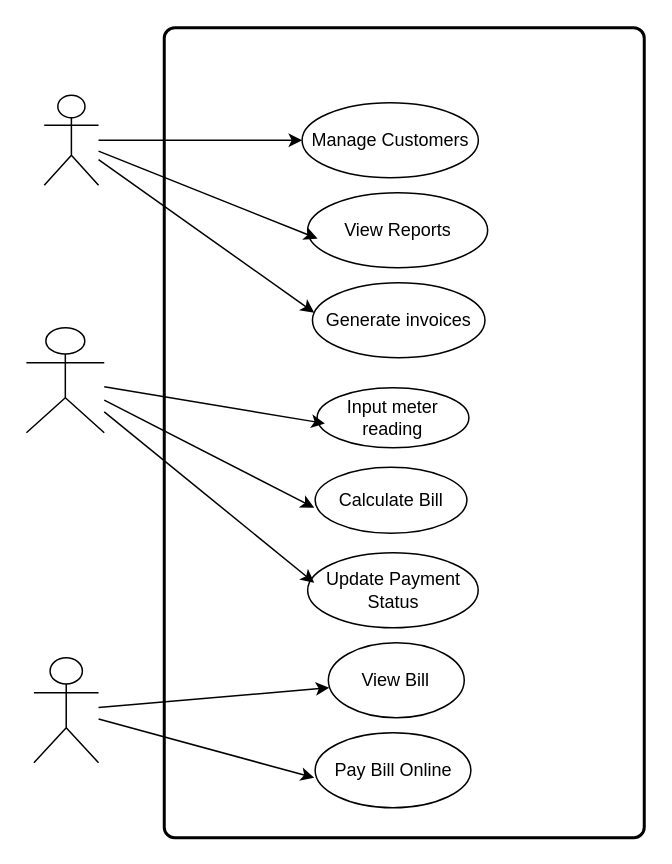
This 672x864 diagram has some shape labels left out. Here are the shapes that lost their labels. From the top down, the box of each, then its label:
(43, 94, 99, 185): Admin
(25, 326, 104, 433): Operator
(32, 656, 99, 763): System
